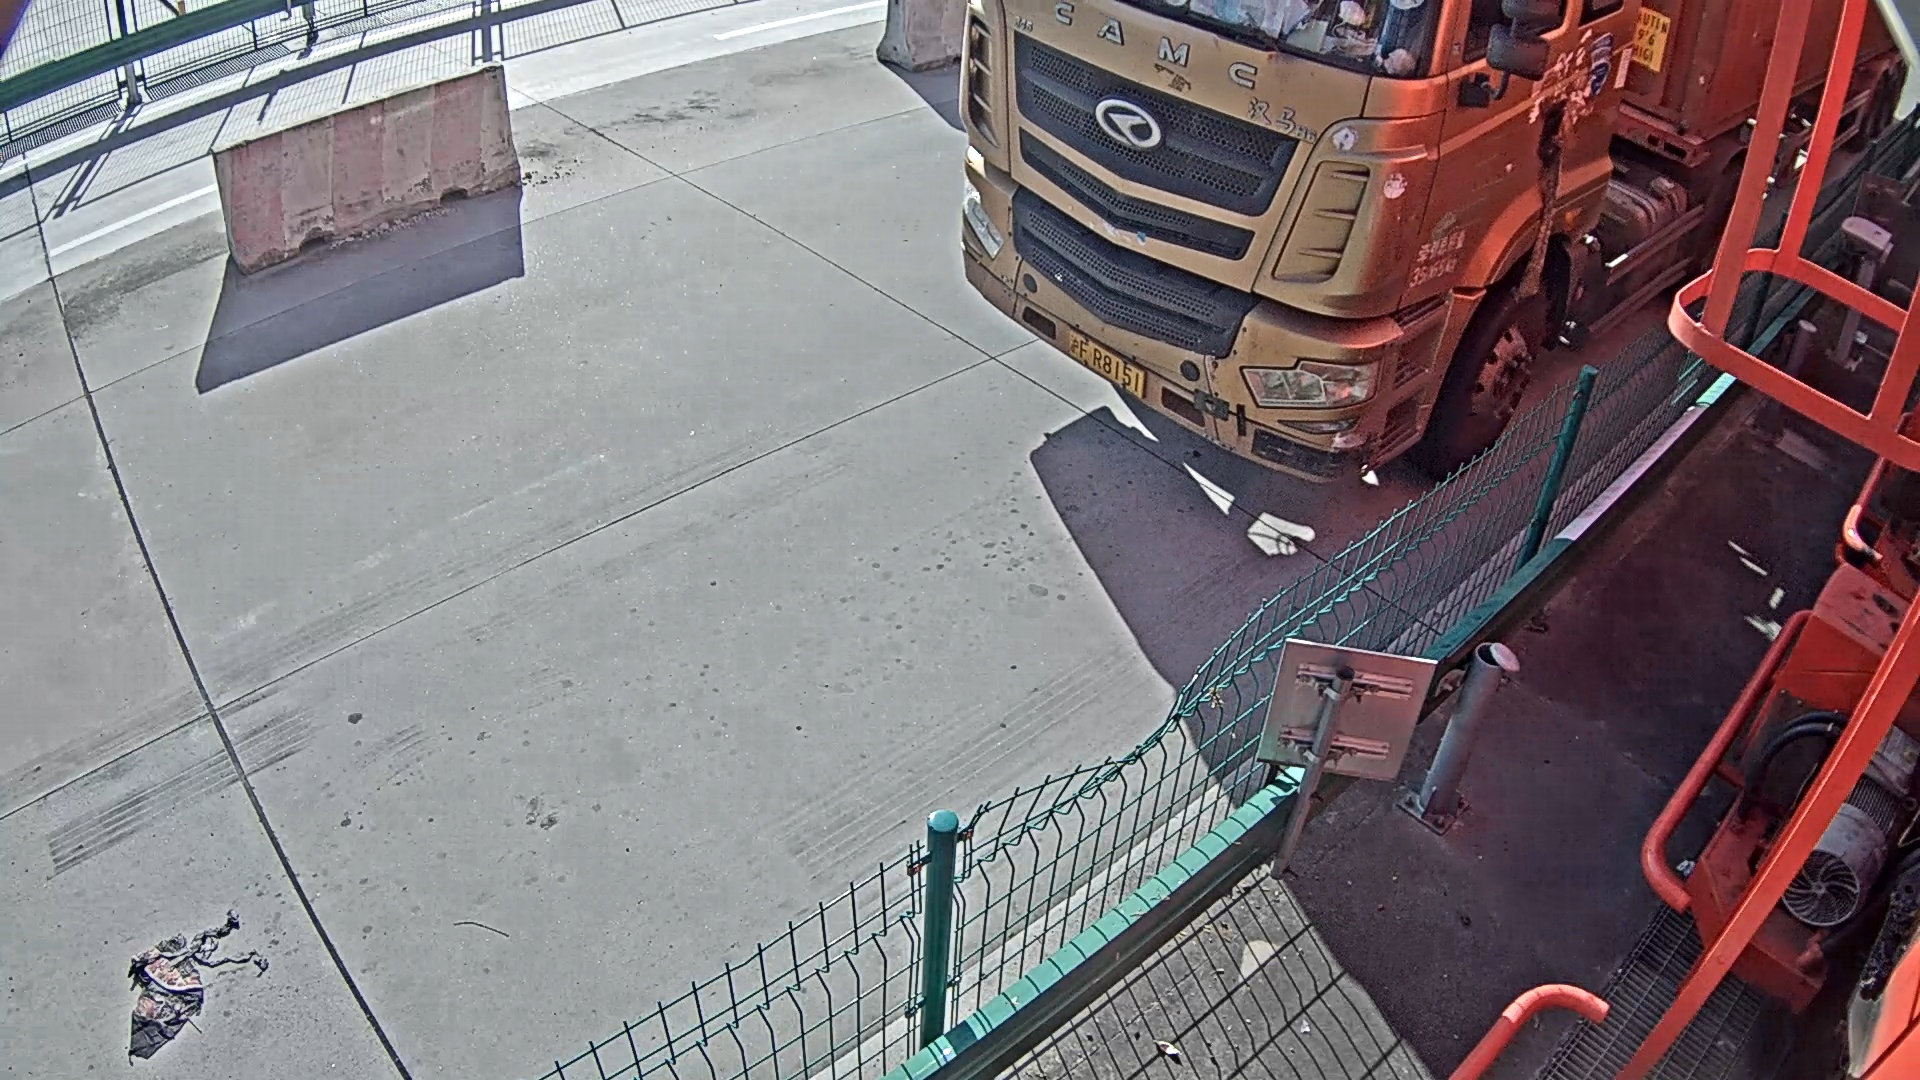head: (953, 1, 1624, 472)
plate: (1063, 332, 1147, 395)
